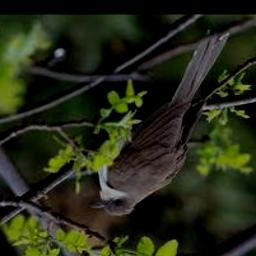Cuckoo: (89, 29, 231, 217)
